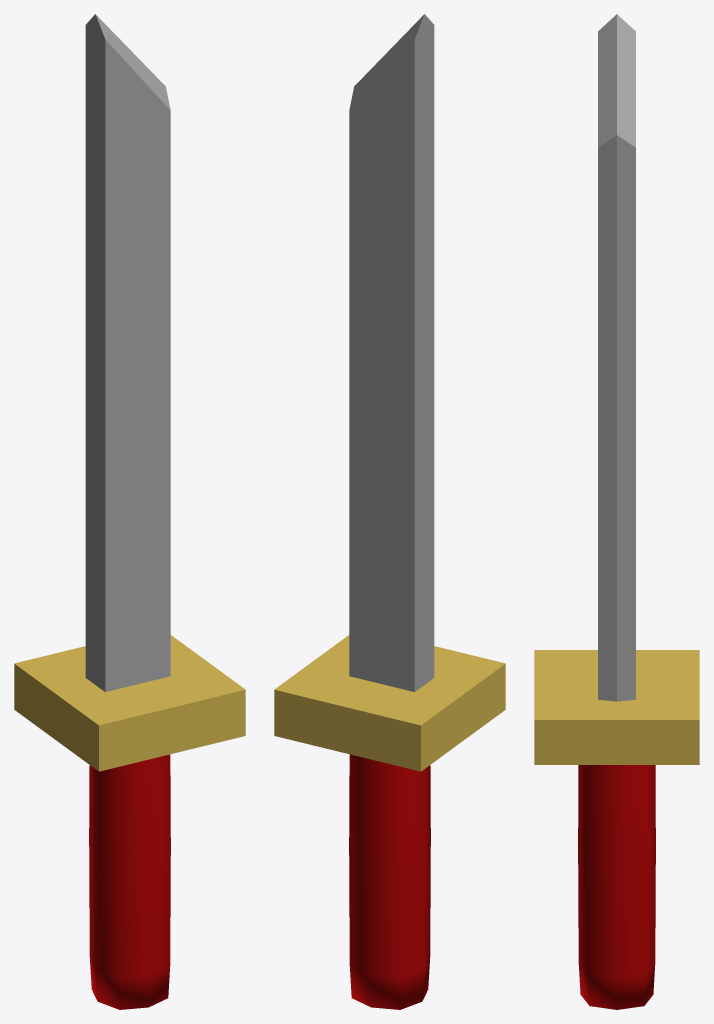
Rendered from knife.fbx.
The picture shows the model from 3 angles, left to right: view 1: azimuth 30°, elevation 25°; view 2: azimuth 150°, elevation 25°; view 3: azimuth 270°, elevation 25°; orthographic projection. The views are drawn at different scales.
Visible parts, largest first — view 1: pCube3, pCube2, pCube1; view 2: pCube3, pCube2, pCube1; view 3: pCube3, pCube2, pCube1.
Part boxes in pixels (x1,y1,x2,y2): pCube3: (85, 14, 170, 691); pCube2: (89, 754, 170, 1009); pCube1: (14, 635, 245, 771); pCube3: (349, 14, 434, 691); pCube2: (349, 754, 430, 1009); pCube1: (274, 635, 505, 771); pCube3: (598, 14, 635, 701); pCube2: (578, 765, 655, 1009); pCube1: (534, 650, 699, 764).
Bounding box in the file's own units: 2.12 × 13.66 × 2.12.
